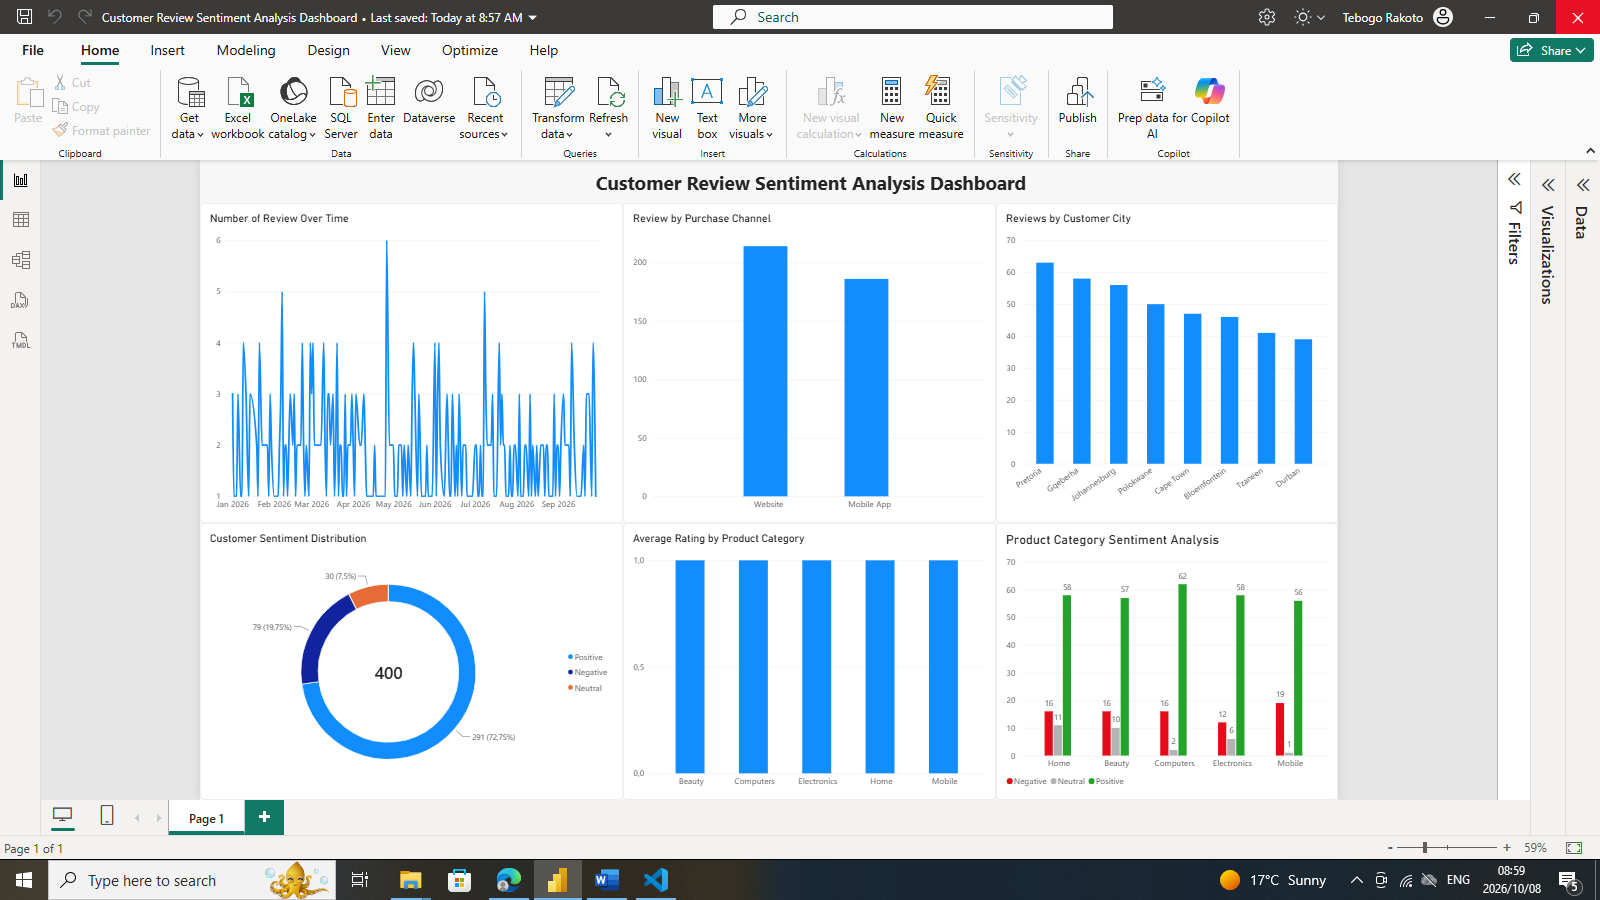

This screenshot's page, from the dashboard's own definition file:
{"tool":"powerbi","page":{"name":"Page 1","canvas":[1920,1080],"ordinal":0},"visuals":[{"type":"clusteredColumnChart","title":"Product Category Sentiment Analysis","fields":{"Category":["customer_reviews_powerbi.Product_Category"],"Series":["customer_reviews_powerbi.Sentiment"],"Y":["CountNonNull(customer_reviews_powerbi.Review_ID)"]},"box":[1343.2,612.6,577.1,467.4],"z":0},{"type":"clusteredColumnChart","title":"Average Rating by Product Category","fields":{"Category":["customer_reviews_powerbi.Product_Category"],"Y":["Min(customer_reviews_powerbi.Rating)"]},"box":[713.8,612.6,629.4,467.4],"z":1000},{"type":"clusteredColumnChart","title":" Review by Purchase Channel","fields":{"Category":["customer_reviews_powerbi.Purchase_Channel"],"Y":["CountNonNull(customer_reviews_powerbi.Review_ID)"]},"box":[713.8,72.6,629.4,540],"z":2000},{"type":"clusteredColumnChart","title":"Reviews by Customer City","fields":{"Category":["customer_reviews_powerbi.Customer_City"],"Y":["CountNonNull(customer_reviews_powerbi.Review_ID)"]},"box":[1343.2,72.6,577.1,540],"z":3000},{"type":"lineChart","title":"Number of Review Over Time","fields":{"Category":["customer_reviews_powerbi.Review_Date"],"Y":["CountNonNull(customer_reviews_powerbi.Review_ID)"]},"box":[0,72.6,713.8,540],"z":4000},{"type":"donutChart","title":"Customer Sentiment Distribution","fields":{"Category":["customer_reviews_powerbi.Sentiment"],"Y":["CountNonNull(customer_reviews_powerbi.Review_ID)"]},"box":[0,612.6,713.8,467.4],"z":5000},{"type":"textbox","box":[249.8,15.2,1562.6,384.8],"z":6000},{"type":"textbox","box":[99.6,15.2,300.4,384.8],"z":7000}]}

Visuals, with their boxes on the page's 1920x1080 design canvas (x1, y1, x2, y2). These are canvas units, not pixel positions in the 1600x900 screenshot, which may show the page scaled, cropped or inside an application window:
"Product Category Sentiment Analysis" clusteredColumnChart: box(1343, 613, 1920, 1080)
"Average Rating by Product Category" clusteredColumnChart: box(714, 613, 1343, 1080)
" Review by Purchase Channel" clusteredColumnChart: box(714, 73, 1343, 613)
"Reviews by Customer City" clusteredColumnChart: box(1343, 73, 1920, 613)
"Number of Review Over Time" lineChart: box(0, 73, 714, 613)
"Customer Sentiment Distribution" donutChart: box(0, 613, 714, 1080)
textbox: box(250, 15, 1812, 400)
textbox: box(100, 15, 400, 400)
